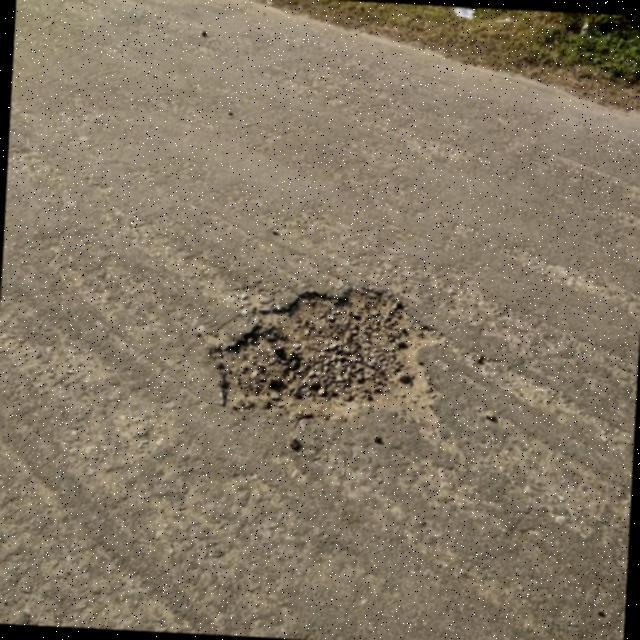Pothole: (210, 287, 434, 415)
